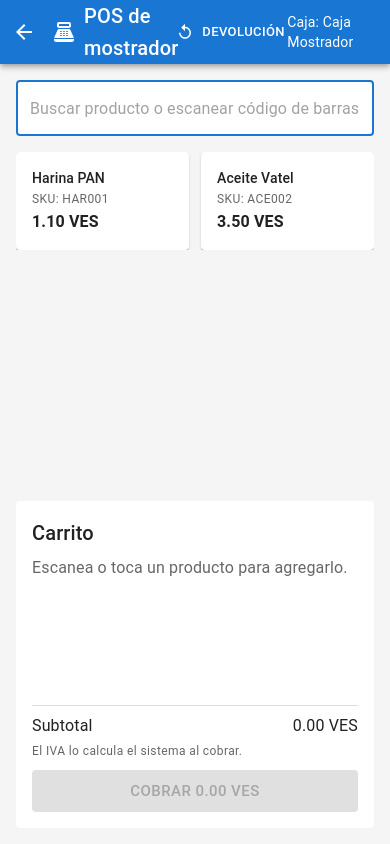
Test: PosPage › permite editar cantidades en el carrito y recalcula con decimal.js
Expected: the heading "Harina PAN" is shown, [32, 170, 105, 186]
Type "HAR001" into the field with test id "pos-busqueda".
click(195, 108); type("HAR001")  # box [16, 80, 374, 136]
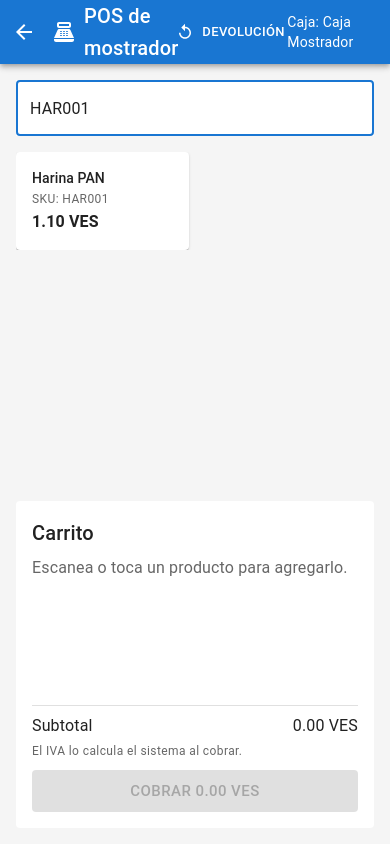
Press Enter in the field with test id "pos-busqueda", box [16, 80, 374, 136]
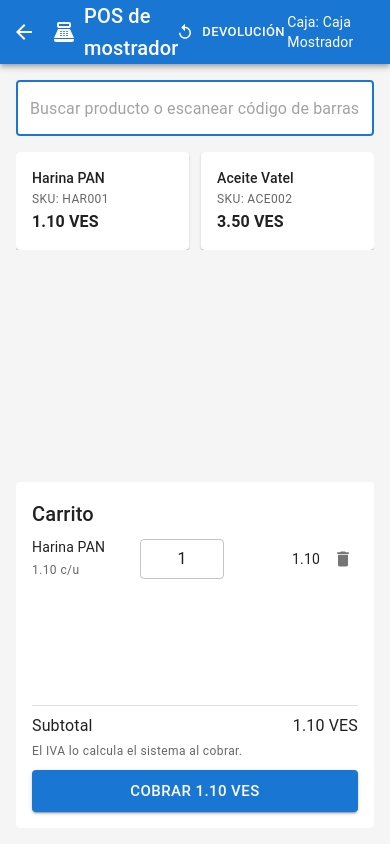
Replace the text in the field named "Cantidad Harina PAN" with "5" at (182, 559), box [140, 539, 224, 579]
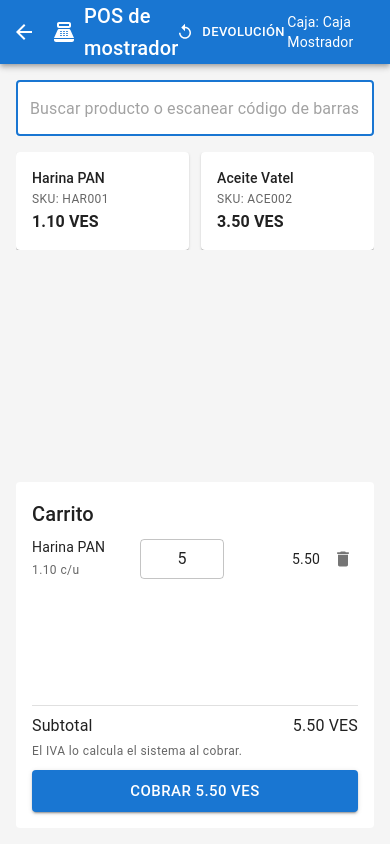
Result: the text with test id "pos-linea-total-p1" reads "5.50" at [292, 551, 320, 567]
Click the button named "Quitar Harina PAN".
click(343, 559)  # box [328, 544, 358, 574]
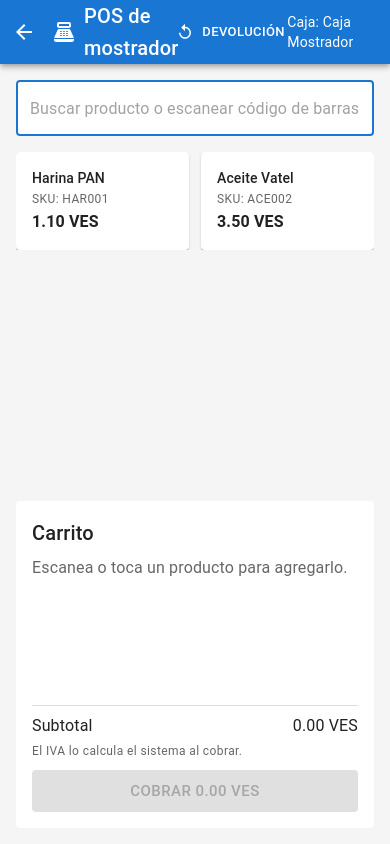
Result: the text with test id "pos-subtotal" shows "0.00" at [293, 716, 325, 735]
